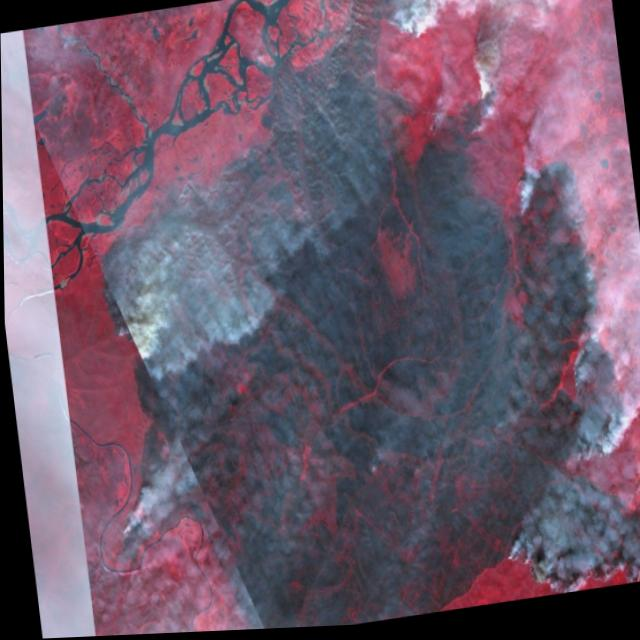fire: (59, 0, 640, 638)
